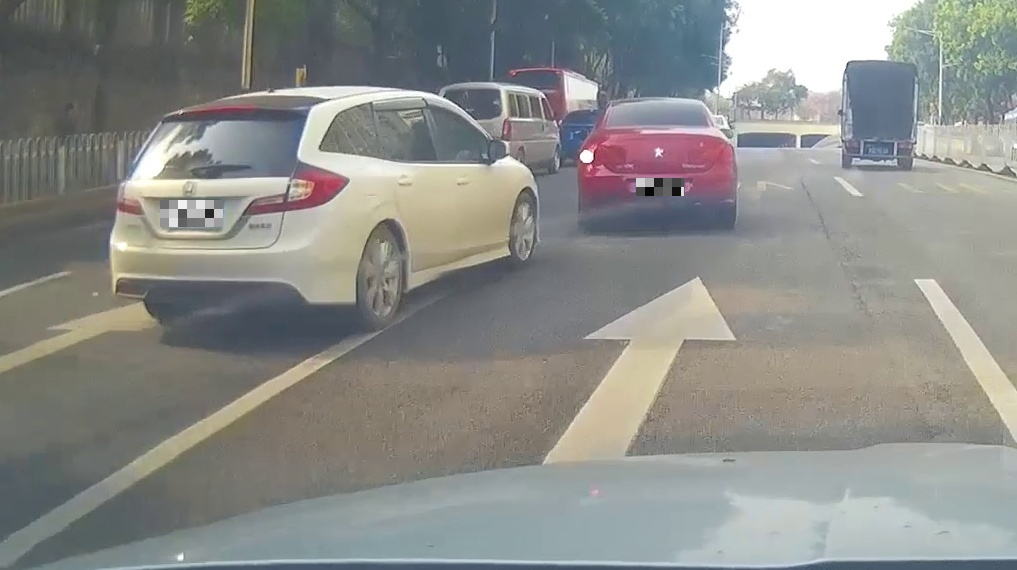L_light: (115, 180, 145, 216), (578, 150, 598, 165), (845, 141, 860, 148)
R_light: (242, 162, 350, 214), (721, 146, 736, 161), (898, 143, 913, 149)
T_light: (193, 105, 260, 113), (650, 103, 671, 108), (879, 62, 893, 65)
day-left: (576, 96, 738, 227)
day-no: (108, 85, 359, 328), (843, 59, 920, 169)
plate_1: (160, 200, 223, 227)
plate_2: (636, 178, 684, 196)
